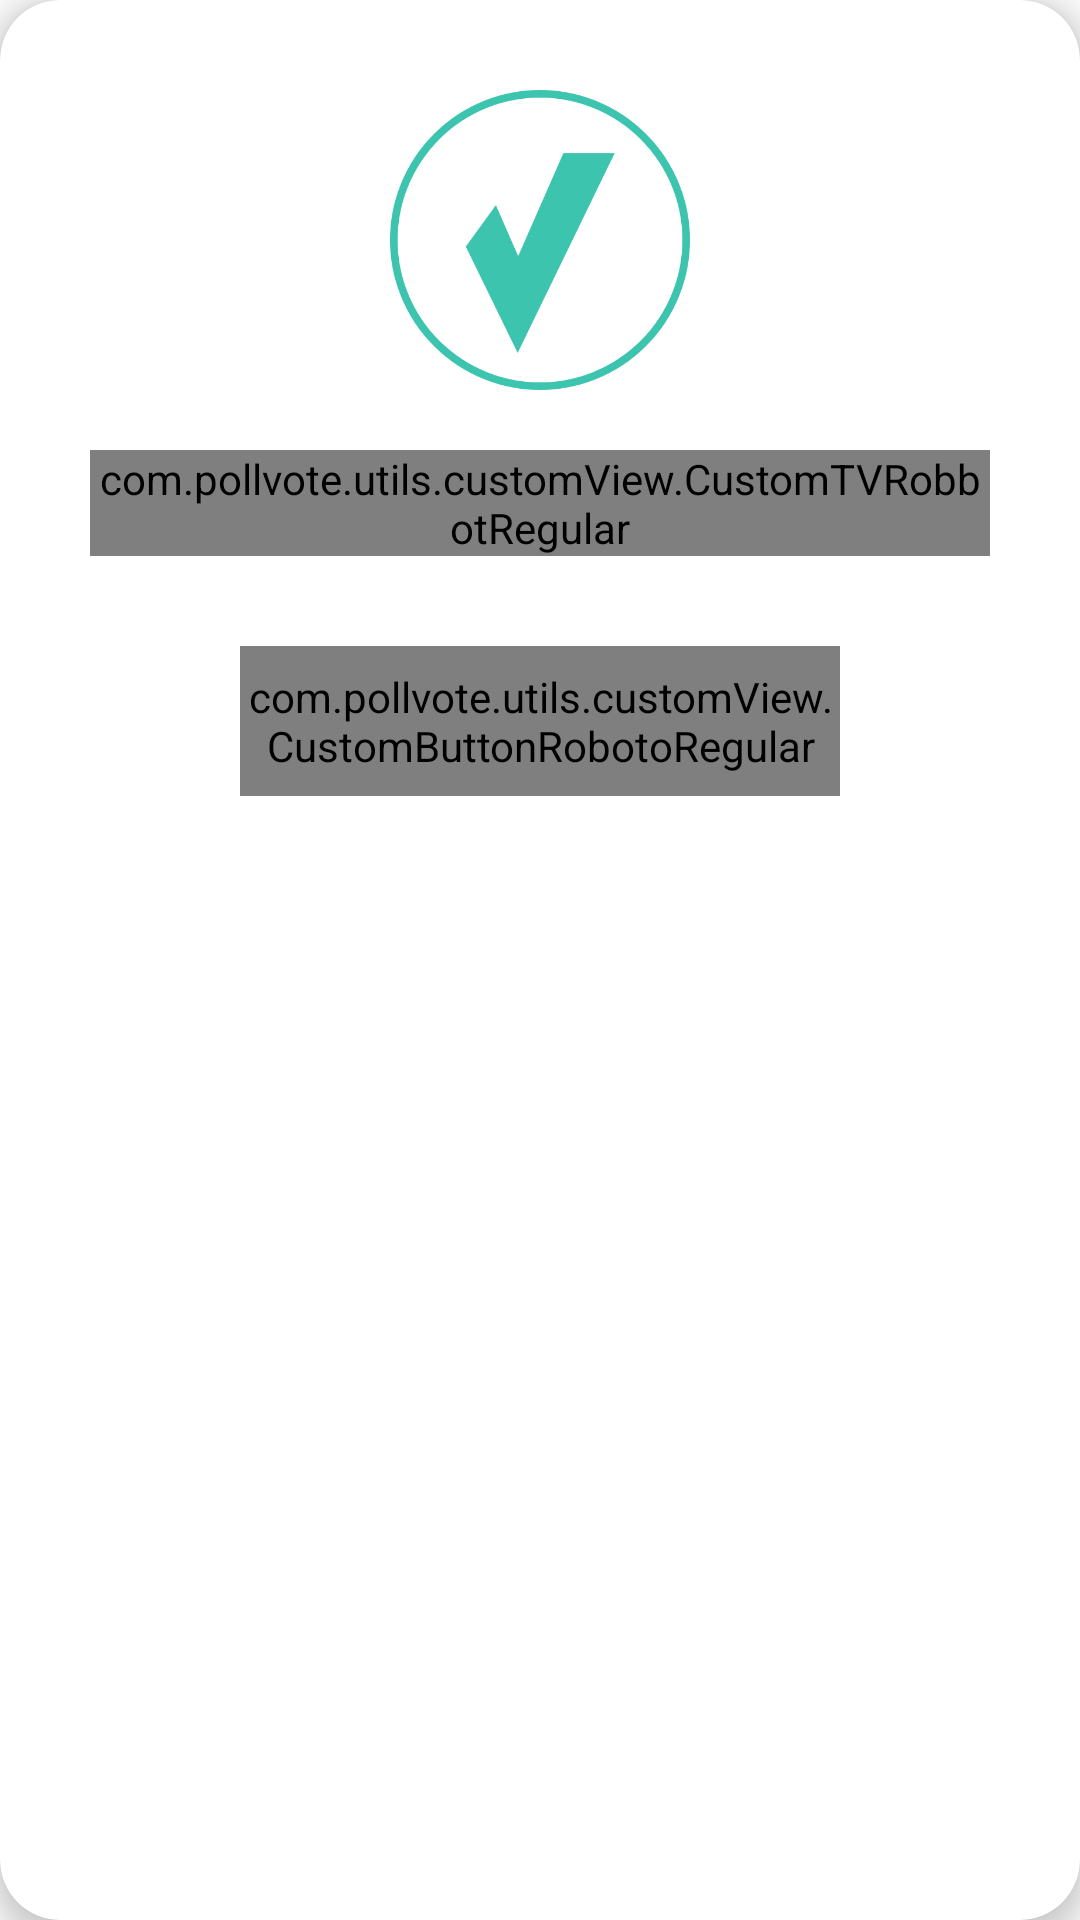

Icon bounding boxes for this 1080px×1920px phone screenshot, format (x1, y1, x2, y2):
validate: (390, 90, 690, 390)
